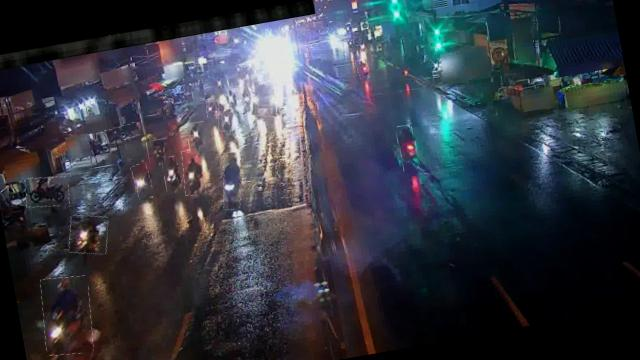Bike: (36, 272, 99, 358), (66, 212, 112, 258), (218, 150, 248, 212), (22, 173, 72, 210), (179, 148, 208, 196), (396, 124, 420, 173), (131, 162, 154, 200), (104, 122, 140, 143), (186, 120, 209, 152), (162, 156, 182, 192), (215, 102, 236, 132), (146, 138, 169, 164), (238, 82, 252, 105), (356, 57, 370, 79), (206, 98, 218, 120)
Car: (247, 78, 283, 119)
